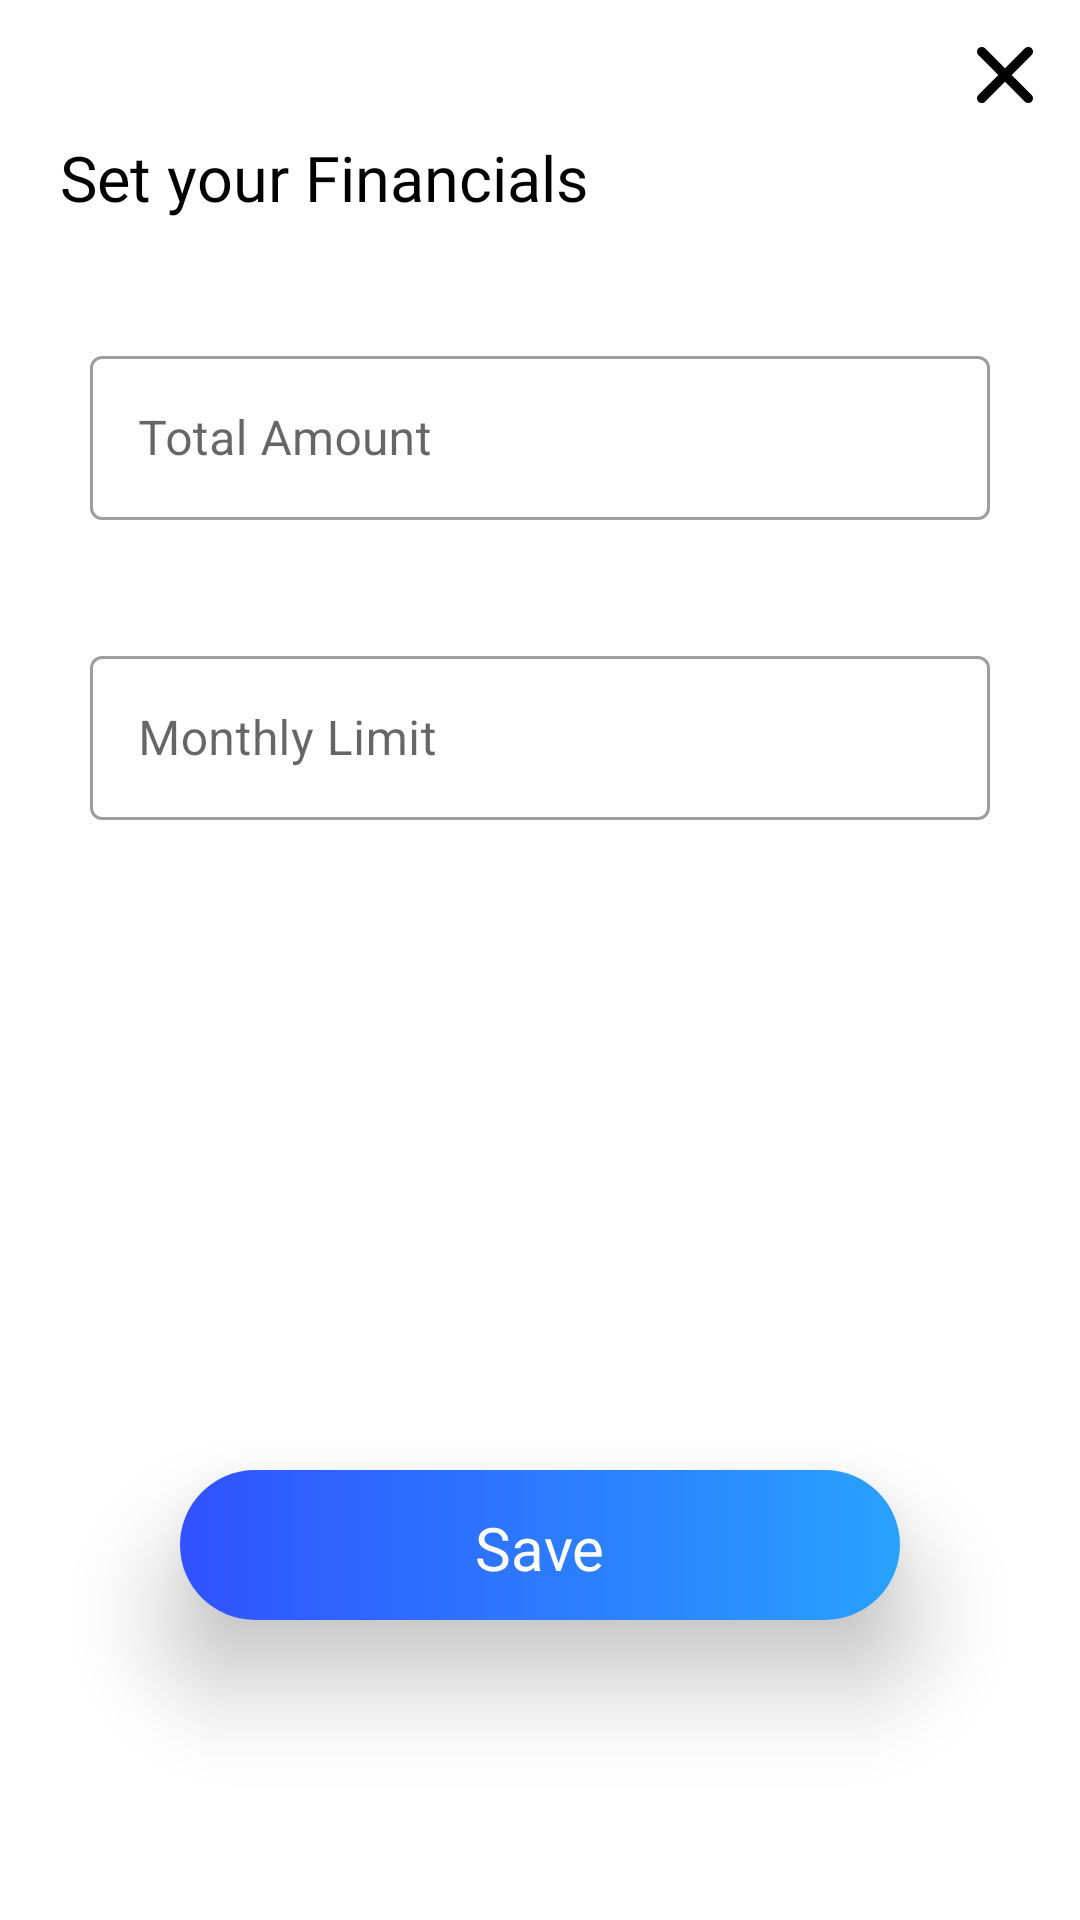

Where icons sit on this 1080w x 1920h app screen, as (x1, y1, x2, y2):
close: (977, 47, 1033, 103)
